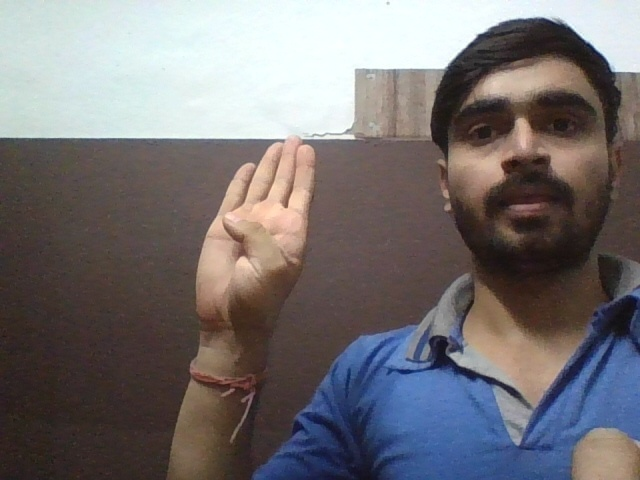B: (193, 133, 320, 333)
